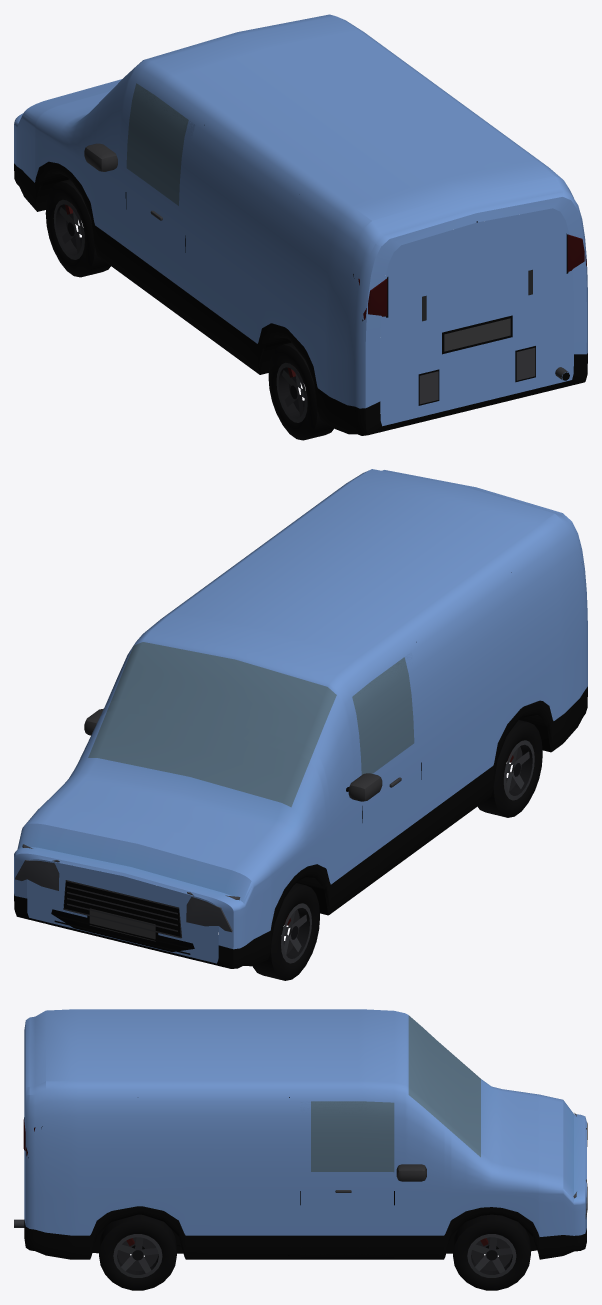
The model's file is cv2_van.glb.
The picture shows the model from 3 angles, top to bottom: view 1: azimuth 30°, elevation 25°; view 2: azimuth 150°, elevation 25°; view 3: azimuth 270°, elevation 25°; orthographic projection. The views are drawn at different scales.
Parts seen in each view (by area): view 1: Body, DoorL_Mesh; view 2: Body, DoorL_Mesh; view 3: Body, DoorR_Mesh.
Boxes of the visible parts, <box> form: Body: <box>14,14,587,440</box>; DoorL_Mesh: <box>126,84,195,284</box>; Body: <box>14,469,587,980</box>; DoorL_Mesh: <box>355,653,420,885</box>; Body: <box>14,1009,587,1290</box>; DoorR_Mesh: <box>300,1101,394,1254</box>.
Size of what is drawn, in the model's own units: 2.41 by 2.1 by 5.3.
